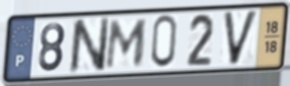0: (149, 13, 179, 71)
2: (186, 13, 216, 68)
8: (36, 21, 67, 74)
M: (103, 18, 150, 71)
N: (68, 15, 112, 76)
V: (221, 8, 261, 69)
